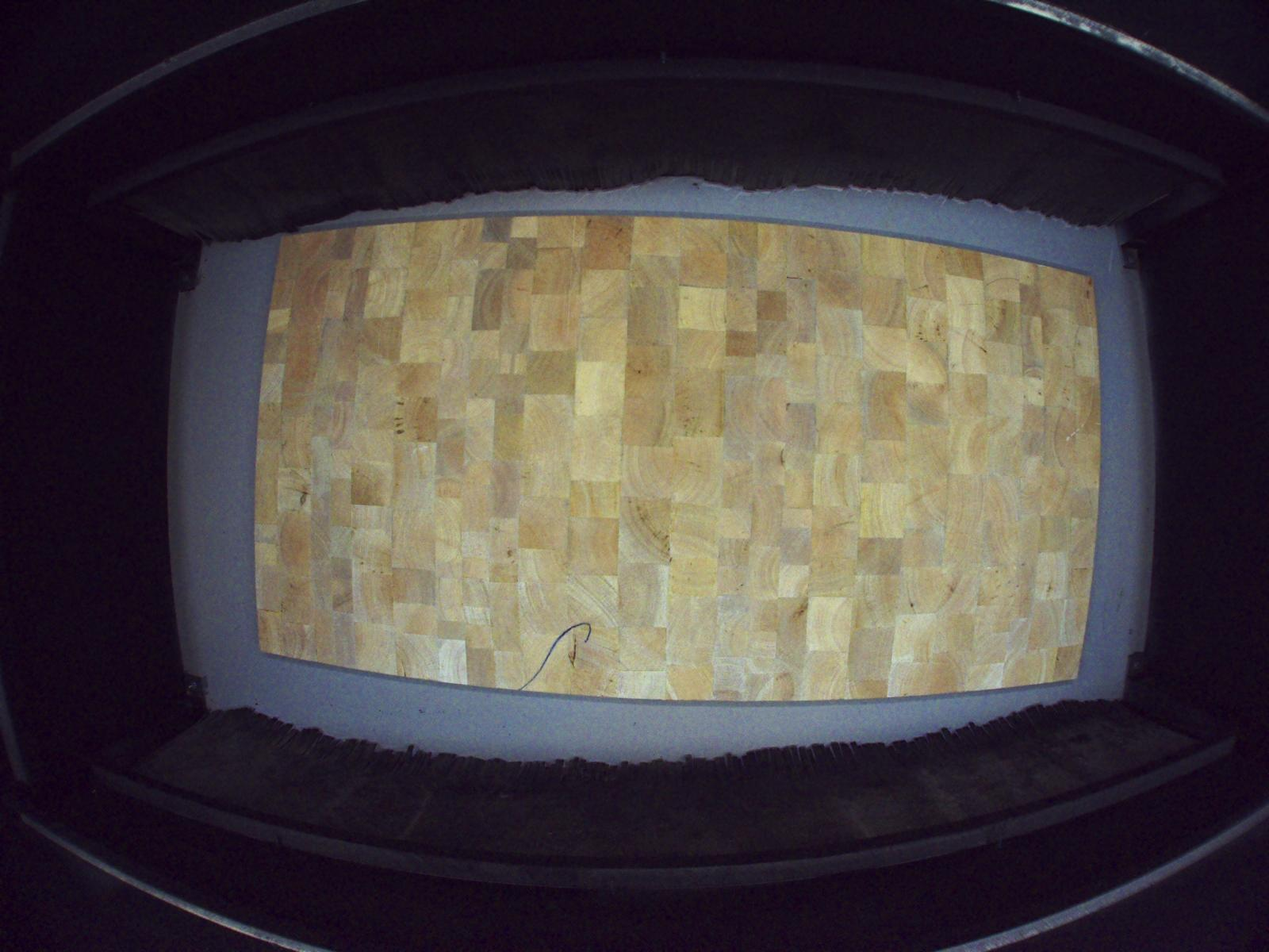nudillo: (567, 632, 578, 669)
sheck_ecuatoriano: (289, 486, 312, 508)
